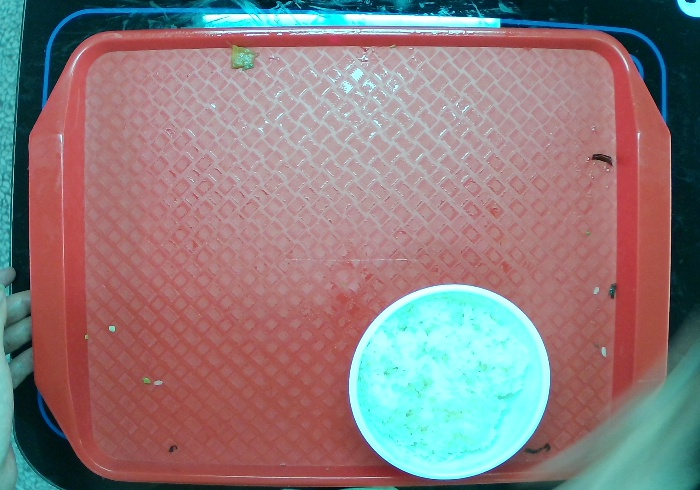YKMZ-Fan_Wan: (342, 269, 565, 490)
